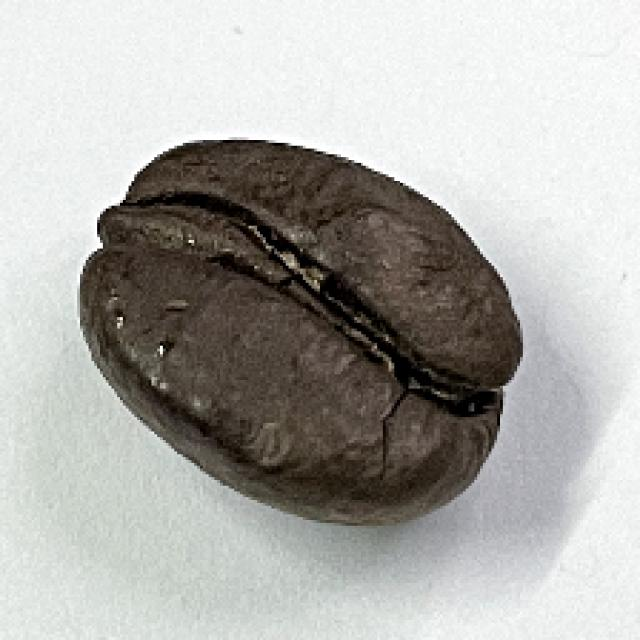bean: (76, 133, 526, 525)
